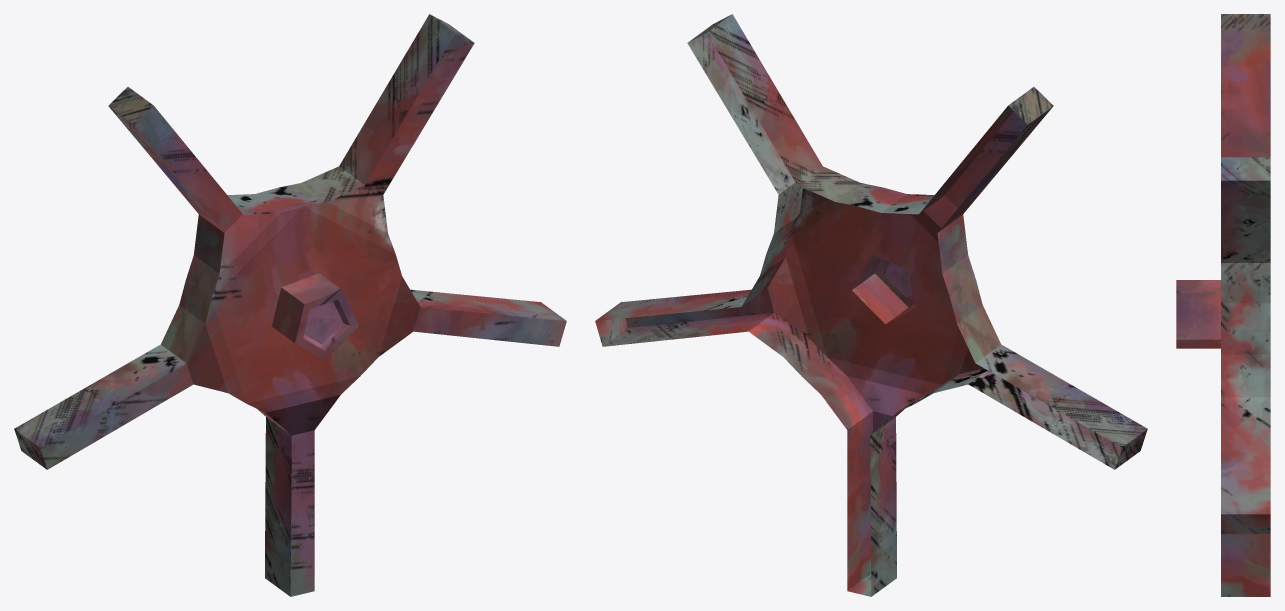
The model's file is Ventilador.fbx.
The picture shows the model from 3 angles, left to right: view 1: azimuth 30°, elevation 25°; view 2: azimuth 150°, elevation 25°; view 3: azimuth 270°, elevation 25°; orthographic projection. The views are drawn at different scales.
Parts seen in each view (by area): view 1: Ventilador_Low; view 2: Ventilador_Low; view 3: Ventilador_Low.
Part boxes in pixels (x1=…): Ventilador_Low: x1=14, y1=14, x2=566, y2=596; Ventilador_Low: x1=595, y1=14, x2=1147, y2=596; Ventilador_Low: x1=1176, y1=14, x2=1270, y2=596.
Size of the model in its own units: 0.6664 by 0.6345 by 0.1071.
Materials: 1 (1 with a texture image).
